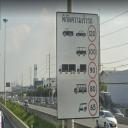speed_limit_100: (88, 43, 97, 60)
speed_limit_120: (88, 24, 96, 42)
speed_limit_80: (88, 80, 97, 98)
speed_limit_90: (88, 61, 97, 80)
